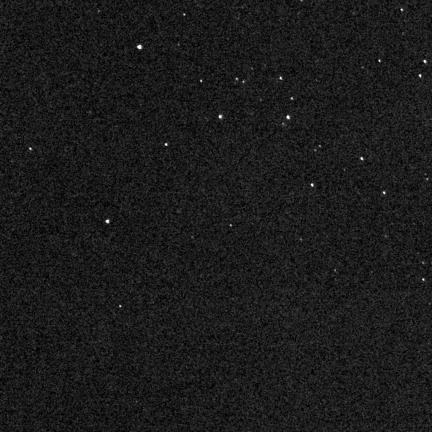blob: (137, 45, 143, 50), (106, 219, 110, 225), (29, 147, 33, 152), (219, 115, 223, 119), (235, 78, 238, 83), (419, 74, 422, 79), (378, 60, 382, 63), (165, 143, 168, 147), (287, 116, 290, 119), (200, 80, 203, 83), (401, 9, 404, 12), (291, 98, 294, 101), (311, 184, 314, 187), (230, 224, 233, 227), (119, 305, 122, 308), (360, 157, 363, 160), (424, 60, 426, 64), (280, 76, 282, 80)
